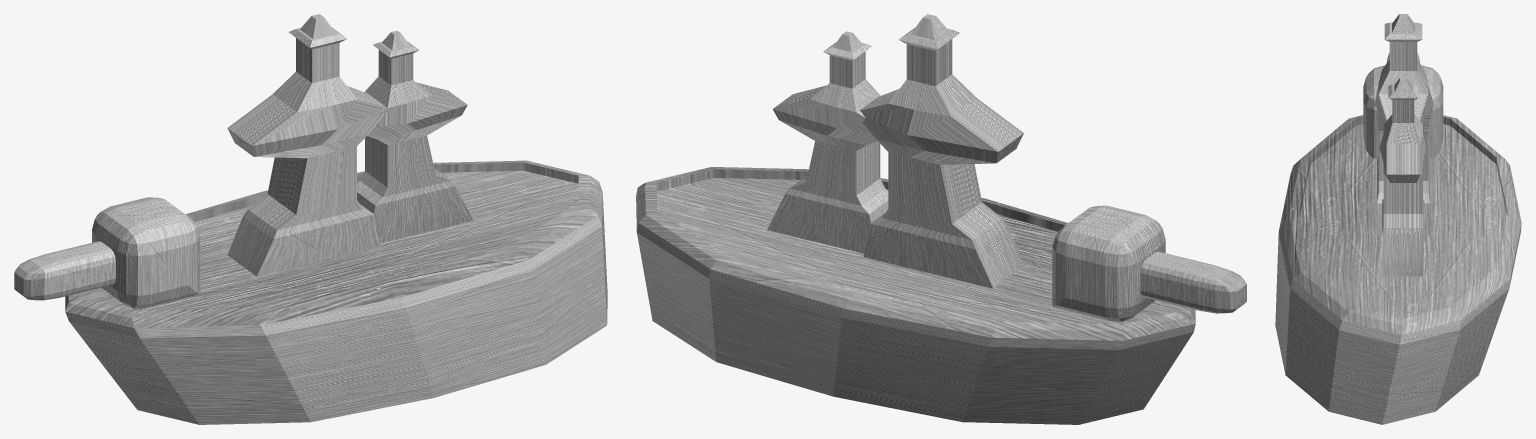
File: Schiff.obj
3 views of the same model, side by side, from view 1: azimuth 30°, elevation 25°; view 2: azimuth 150°, elevation 25°; view 3: azimuth 270°, elevation 25° (orthographic). The views are drawn at different scales.
Parts seen in each view (by area): view 1: Cylinder; view 2: Cylinder; view 3: Cylinder.
Boxes of the visible parts, x1,y1,x2,y2 form: Cylinder: (14, 14, 607, 424); Cylinder: (636, 14, 1246, 424); Cylinder: (1275, 14, 1521, 424).
Bounding box in the file's own units: 2.34 × 1.42 × 0.9919.
1 material, 1 textured.
